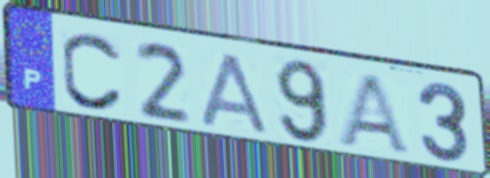2: (131, 39, 194, 124)
3: (415, 79, 470, 164)
9: (272, 57, 332, 146)
A: (334, 72, 415, 158), (197, 49, 271, 137)
C: (59, 29, 126, 114)
